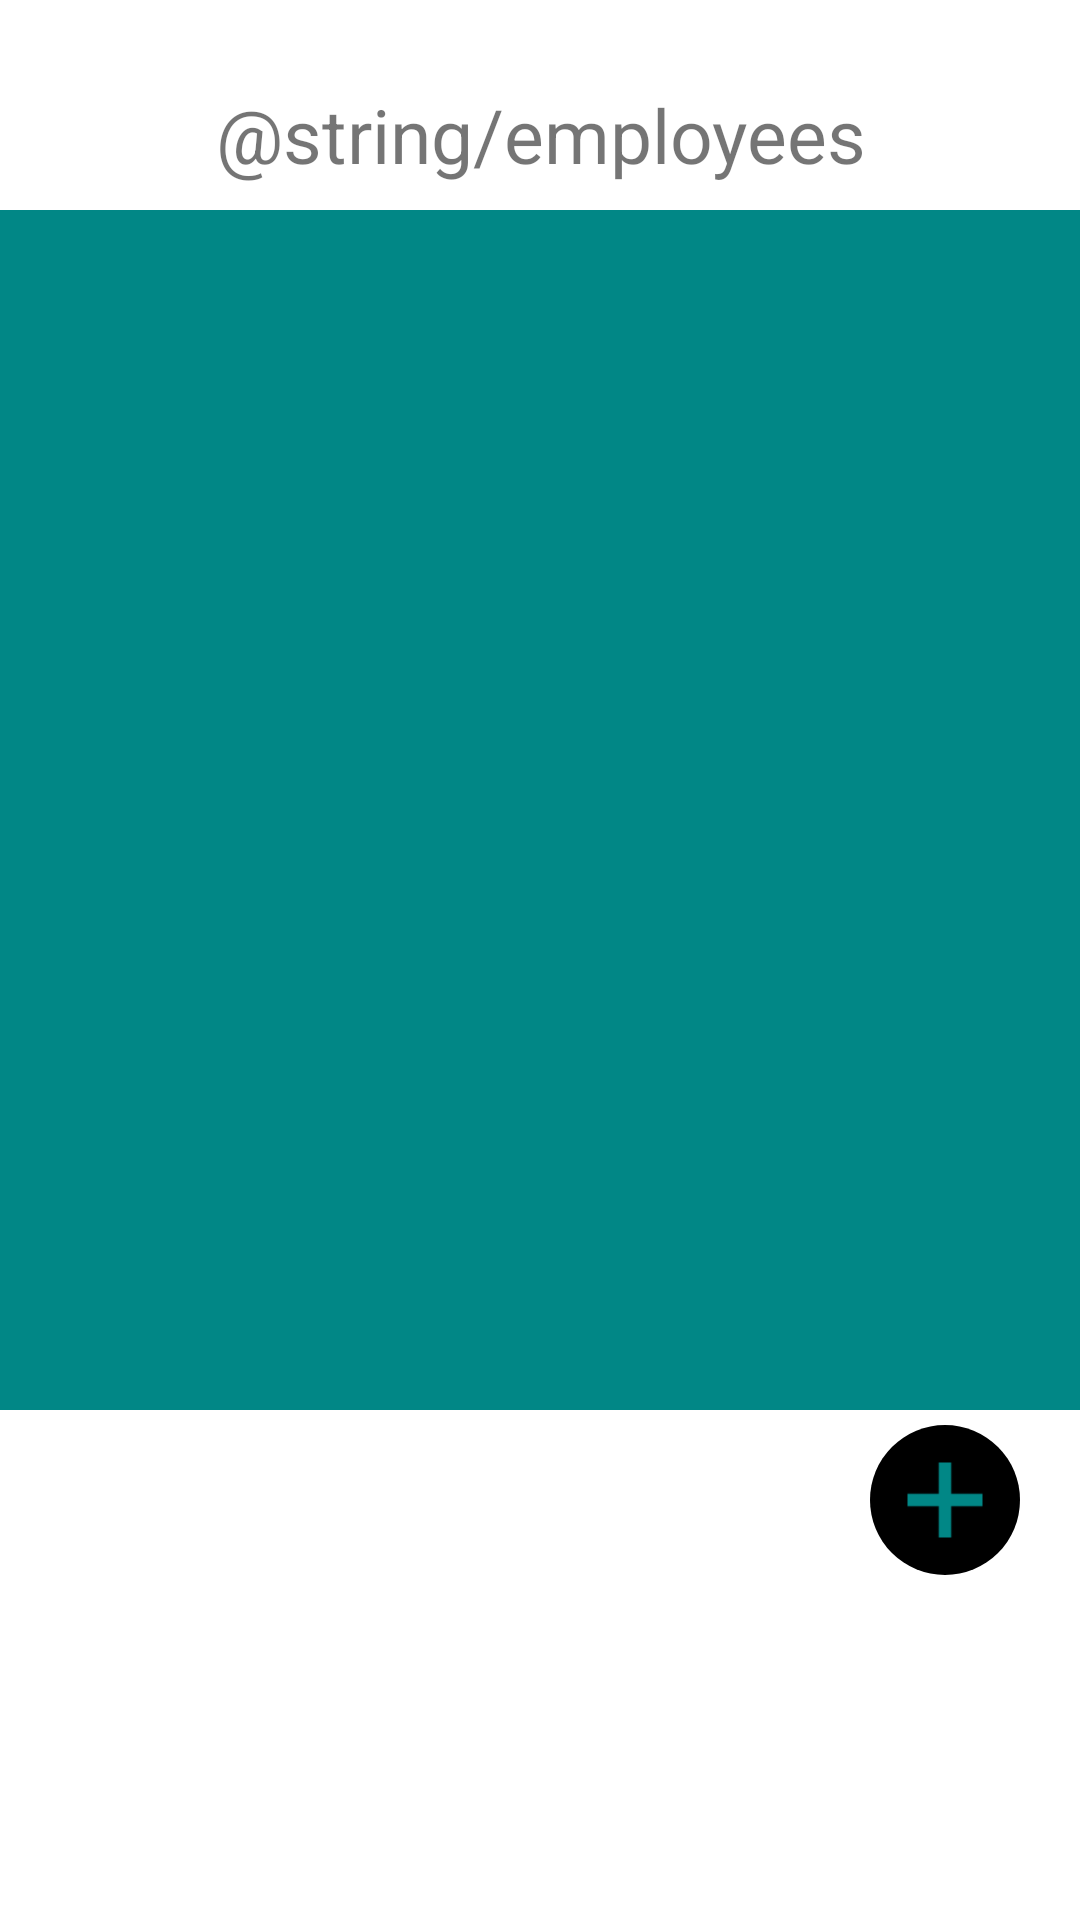

Screen size 1080px×1920px. Icon name, then its center in pixels as (x=x, y=y):
plus: (x=945, y=1500)
